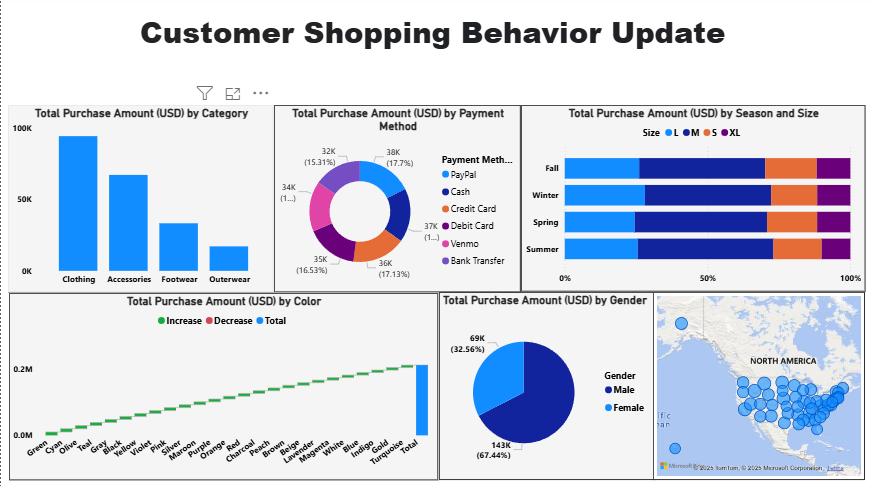

The dashboard page shown, as its layout file describes it:
{"tool":"powerbi","page":{"name":"Page 1","canvas":[1280,720],"ordinal":0},"visuals":[{"type":"textbox","box":[10.1,16.8,1254.8,115.9],"z":0},{"type":"clusteredColumnChart","title":"Total Purchase Amount (USD) by Category","fields":{"Category":["shopping_behavior_updated.Category"],"Y":["Sum(shopping_behavior_updated.Purchase Amount (USD))"]},"box":[10.2,159.5,389.3,273.7],"z":1},{"type":"waterfallChart","title":"Total Purchase Amount (USD) by Color","fields":{"Category":["shopping_behavior_updated.Color"],"Y":["Sum(shopping_behavior_updated.Purchase Amount (USD))"]},"box":[11.7,434.6,627.8,273.7],"z":2},{"type":"pieChart","title":"Total Purchase Amount (USD) by Gender","fields":{"Category":["shopping_behavior_updated.Gender"],"Y":["Sum(shopping_behavior_updated.Purchase Amount (USD))"]},"box":[641,433.2,316.1,275.1],"z":3},{"type":"map","fields":{"Category":["shopping_behavior_updated.Location"],"Size":["Sum(shopping_behavior_updated.Purchase Amount (USD))"]},"box":[954.1,433.2,310.2,275.1],"z":4},{"type":"donutChart","title":"Total Purchase Amount (USD) by Payment Method","fields":{"Category":["shopping_behavior_updated.Payment Method"],"Y":["Sum(shopping_behavior_updated.Purchase Amount (USD))"]},"box":[399.5,159.5,361.5,273.7],"z":5},{"type":"hundredPercentStackedBarChart","title":"Total Purchase Amount (USD) by Season and Size","fields":{"Category":["shopping_behavior_updated.Season"],"Y":["Sum(shopping_behavior_updated.Purchase Amount (USD))"],"Series":["shopping_behavior_updated.Size"]},"box":[761,160,504,273],"z":6}]}

Visuals, with their boxes in screenshot pixels (x1, y1, x2, y2), scaled from the page's 1280x720 canvas onto the 874x486 screenshot:
textbox: 7:11:864:90
"Total Purchase Amount (USD) by Category" clusteredColumnChart: 7:108:273:292
"Total Purchase Amount (USD) by Color" waterfallChart: 8:293:437:478
"Total Purchase Amount (USD) by Gender" pieChart: 438:292:654:478
map - shopping_behavior_updated.Location x Sum(shopping_behavior_updated.Purchase Amount (USD)): 651:292:863:478
"Total Purchase Amount (USD) by Payment Method" donutChart: 273:108:520:292
"Total Purchase Amount (USD) by Season and Size" hundredPercentStackedBarChart: 520:108:864:292
